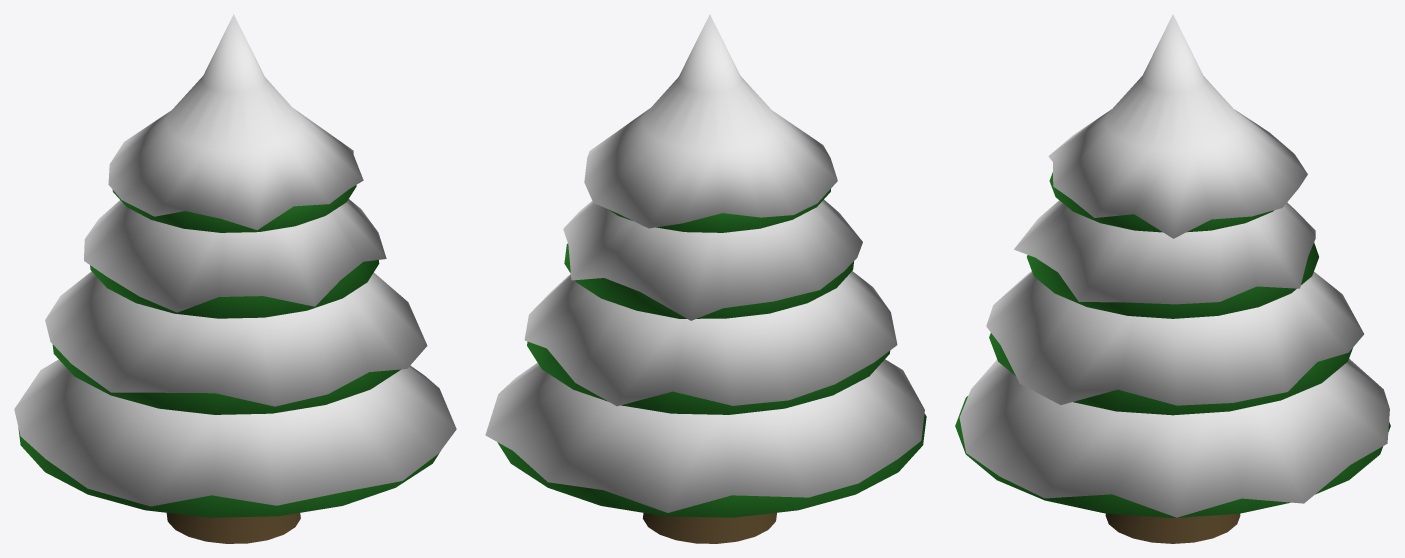
The model's file is Small_SnowTree.fbx.
The picture shows the model from 3 angles, left to right: view 1: azimuth 30°, elevation 25°; view 2: azimuth 150°, elevation 25°; view 3: azimuth 270°, elevation 25°; orthographic projection.
Visible parts, largest first — view 1: Small_SnowTree; view 2: Small_SnowTree; view 3: Small_SnowTree.
Boxes of the visible parts, x1,y1,x2,y2 form: Small_SnowTree: (14,14,456,543); Small_SnowTree: (485,14,926,543); Small_SnowTree: (955,14,1390,543).
Bounding box in the file's own units: 1.24 × 1.56 × 1.23.
